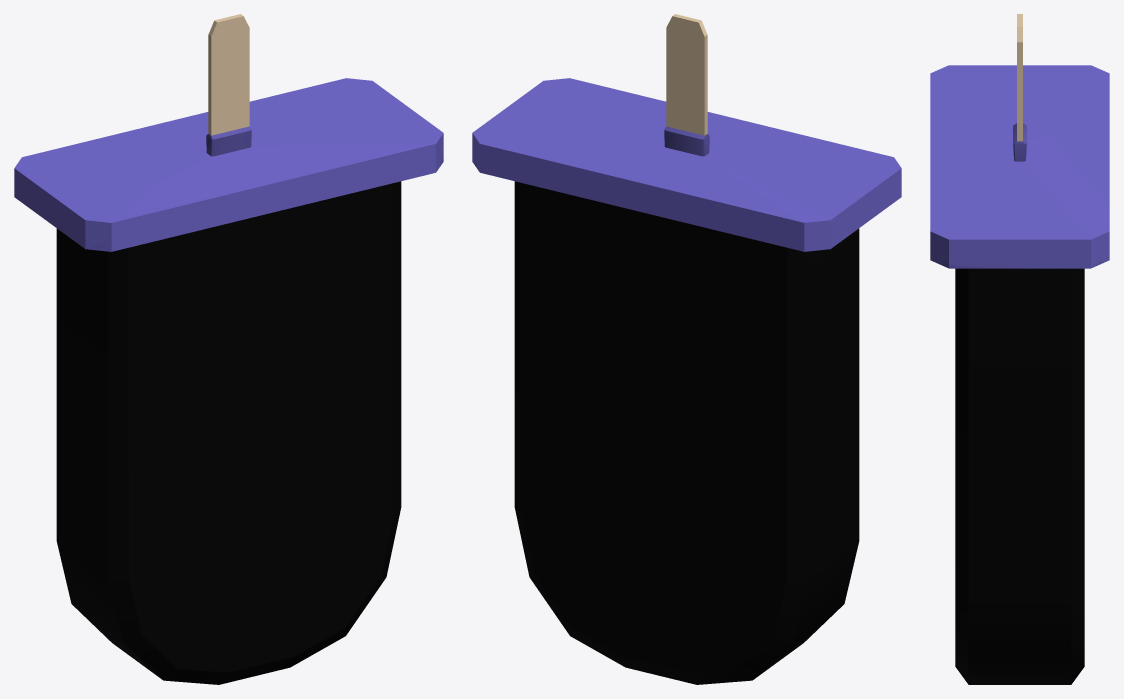
The model's file is popsicle_maker1.fbx.
3 views of the same model, side by side, from view 1: azimuth 30°, elevation 25°; view 2: azimuth 150°, elevation 25°; view 3: azimuth 270°, elevation 25° (orthographic).
Visible parts, largest first — view 1: popsicle_maker1, popsicle_makercap, popsicle_wood1; view 2: popsicle_maker1, popsicle_makercap, popsicle_wood1; view 3: popsicle_maker1, popsicle_makercap, popsicle_wood1.
Boxes of the visible parts, bbox=[...] form: popsicle_maker1: bbox=[56, 181, 401, 684]; popsicle_makercap: bbox=[14, 78, 443, 251]; popsicle_wood1: bbox=[208, 14, 249, 135]; popsicle_maker1: bbox=[514, 181, 859, 684]; popsicle_makercap: bbox=[472, 78, 901, 251]; popsicle_wood1: bbox=[666, 14, 707, 135]; popsicle_maker1: bbox=[955, 268, 1084, 684]; popsicle_makercap: bbox=[930, 65, 1109, 268]; popsicle_wood1: bbox=[1017, 14, 1022, 141].
Size of the model in its own units: 0.3589 by 0.6118 by 0.1557.
